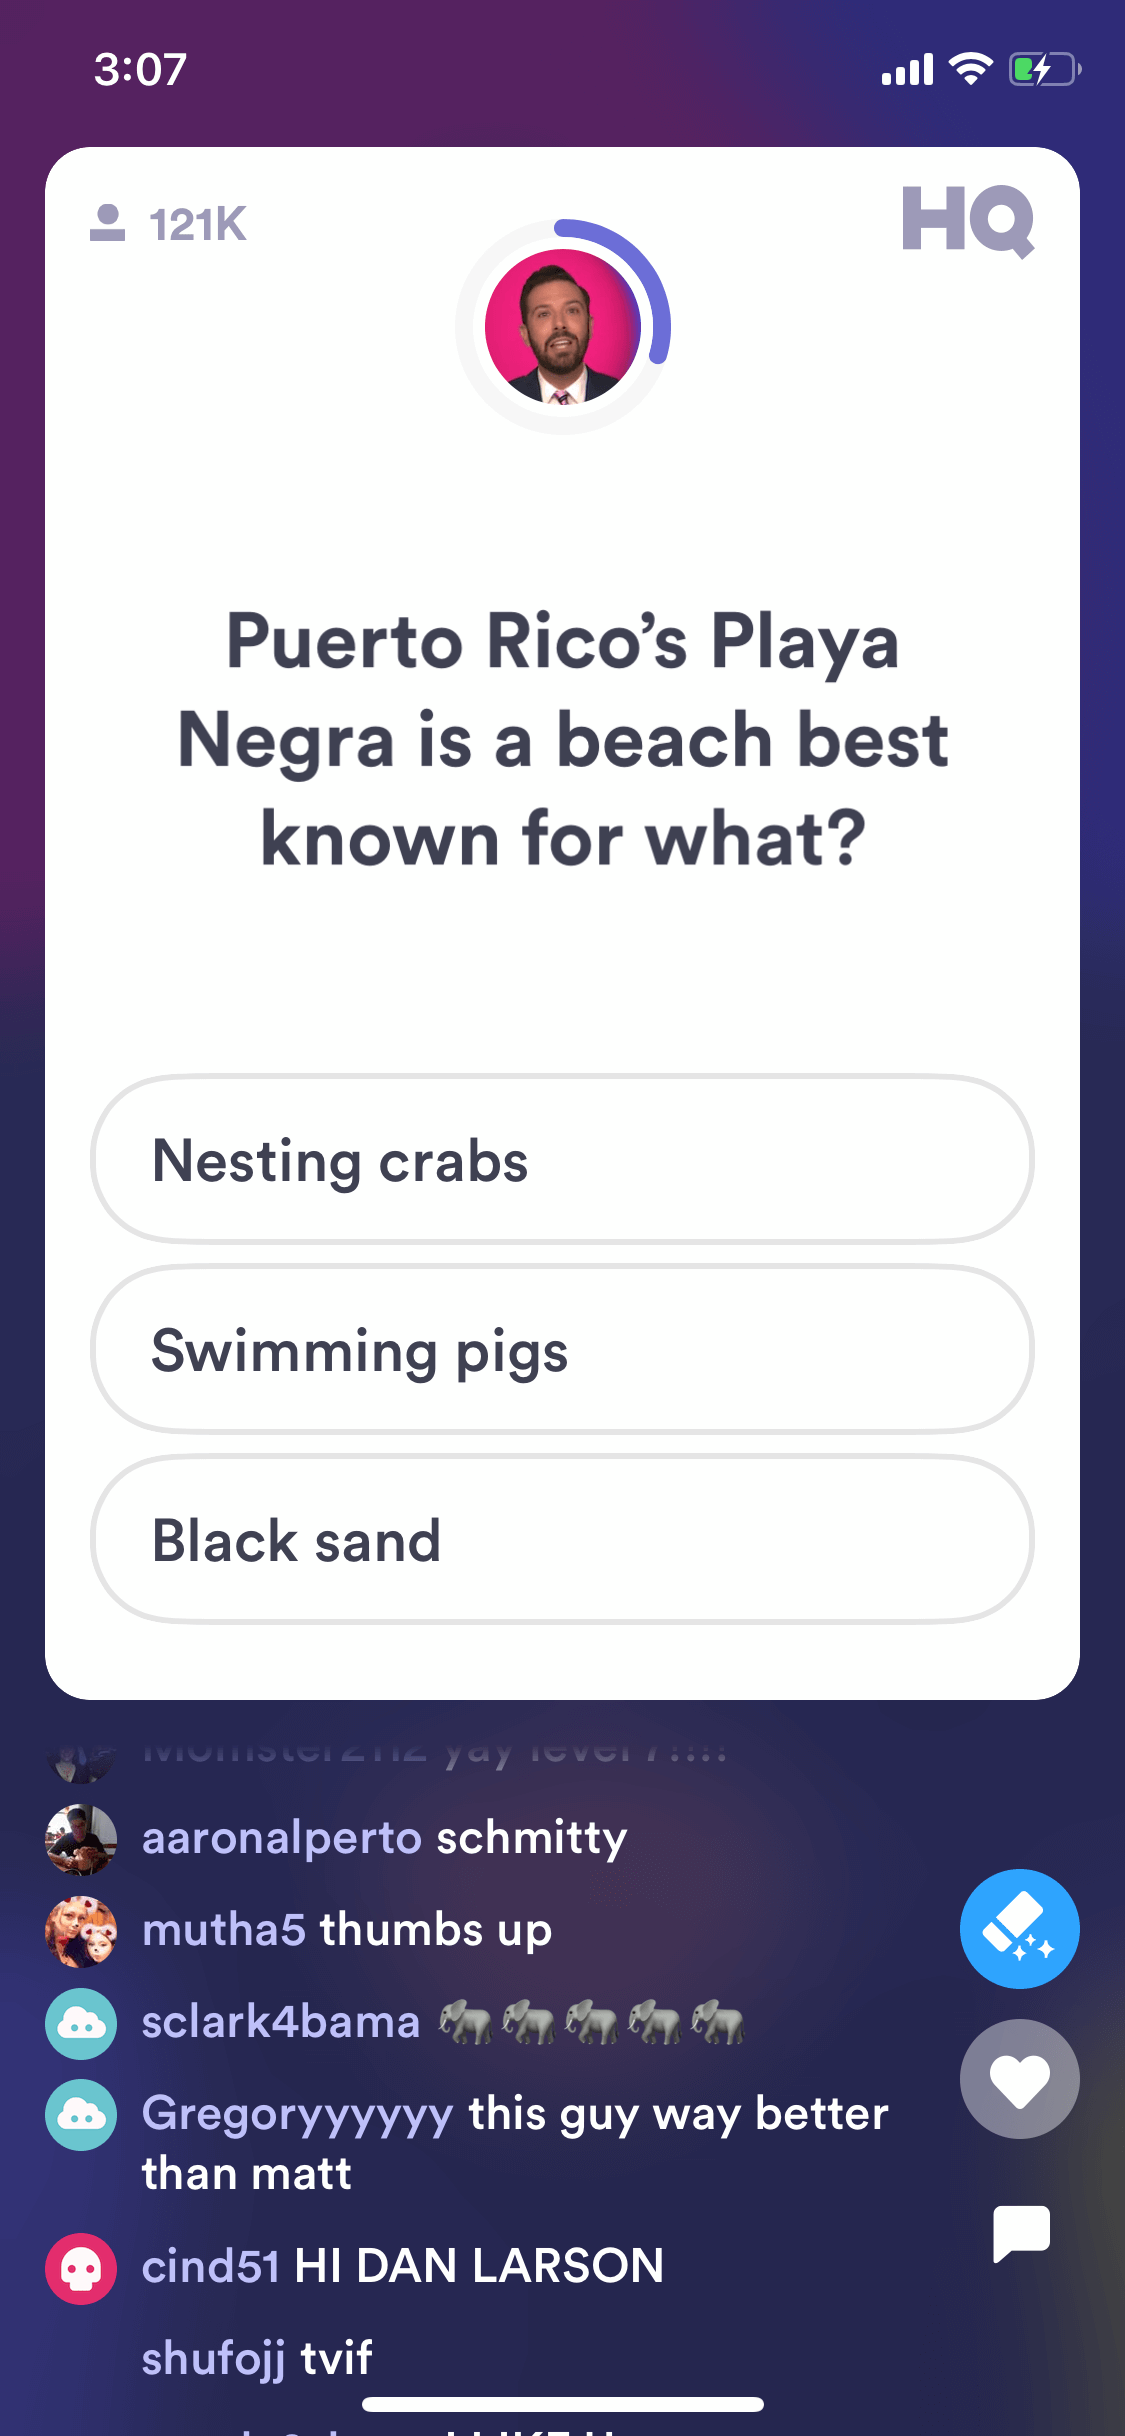Buttons: (89, 1066, 1040, 1252), (92, 1260, 1040, 1446), (93, 1449, 1036, 1636)
FAB (Floating Action Button): (940, 2007, 1102, 2152), (946, 1850, 1097, 1998), (939, 2166, 1100, 2285)
